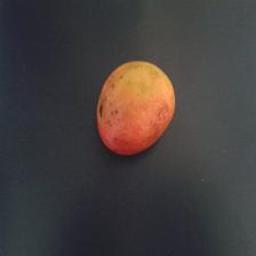Mango Semifresh: (93, 42, 175, 160)
